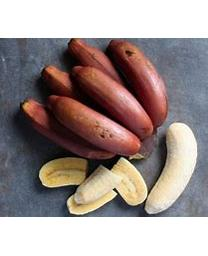banana: (19, 39, 168, 213)
